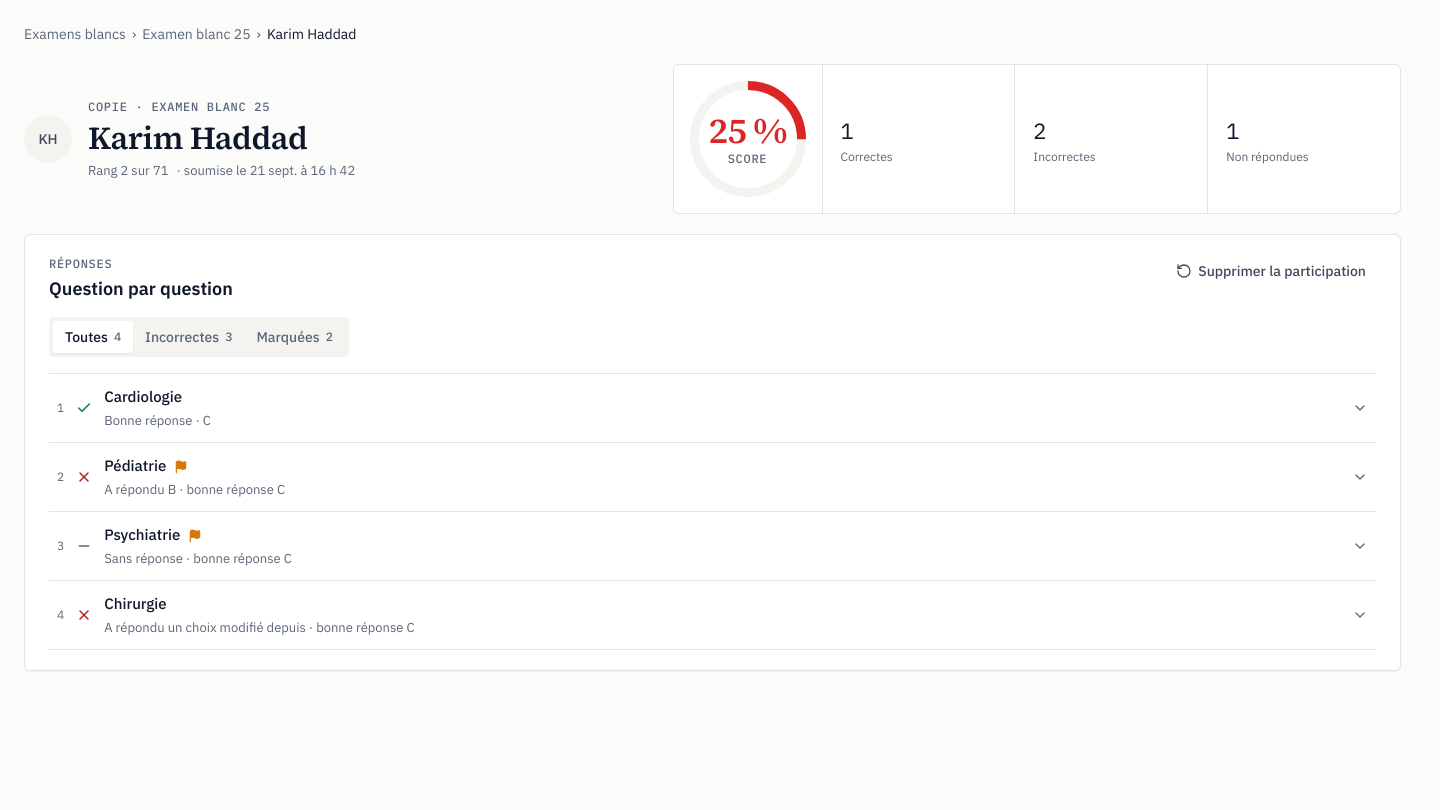
Test: ExamCopyClient › filtre les réponses marquées
Click the button with test id "copy-filter-flagged" at (295, 337), box [244, 321, 345, 353]
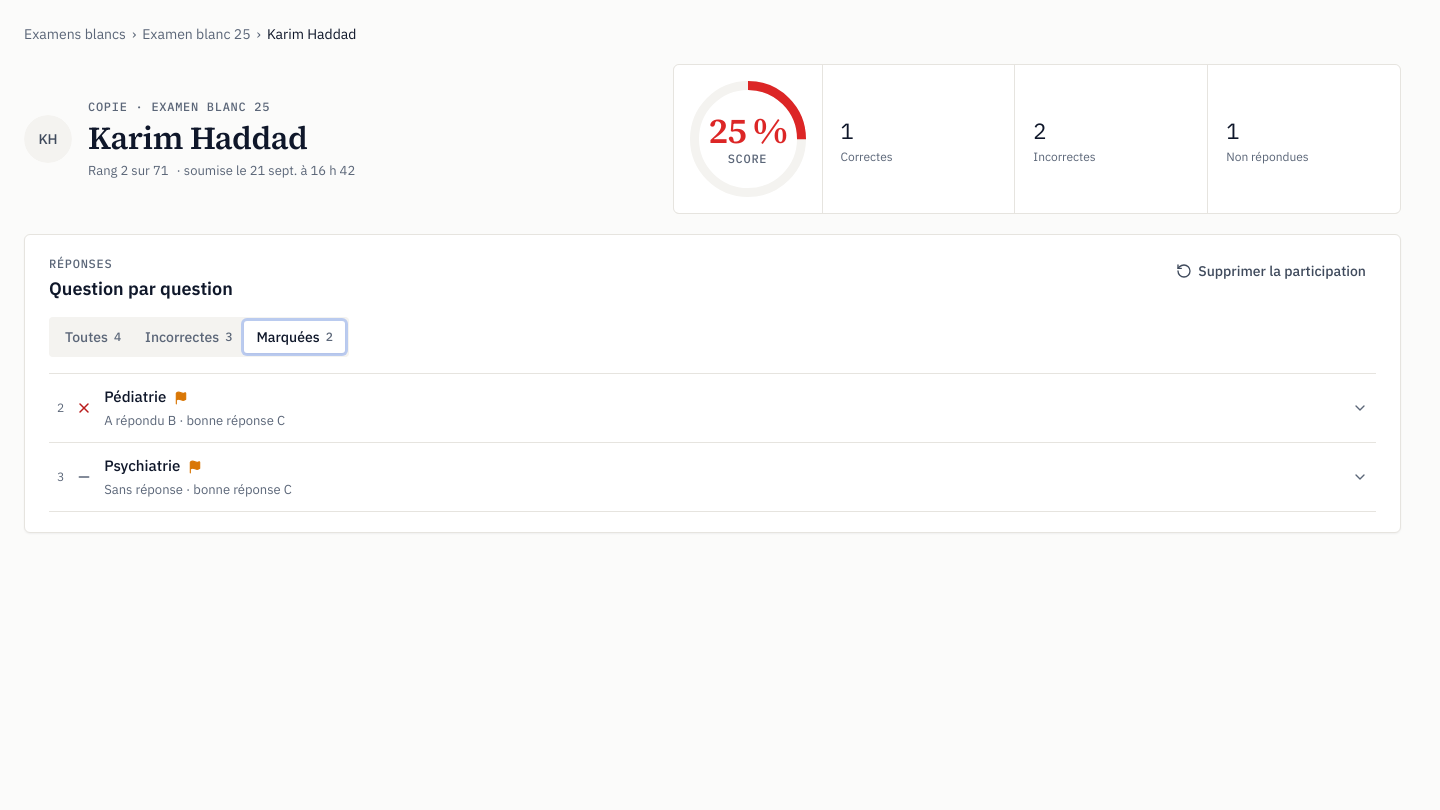
Expected: the list item with test id "copy-row-2" is shown, [49, 374, 1376, 443]
Now the list item with test id "copy-row-1" is gone
